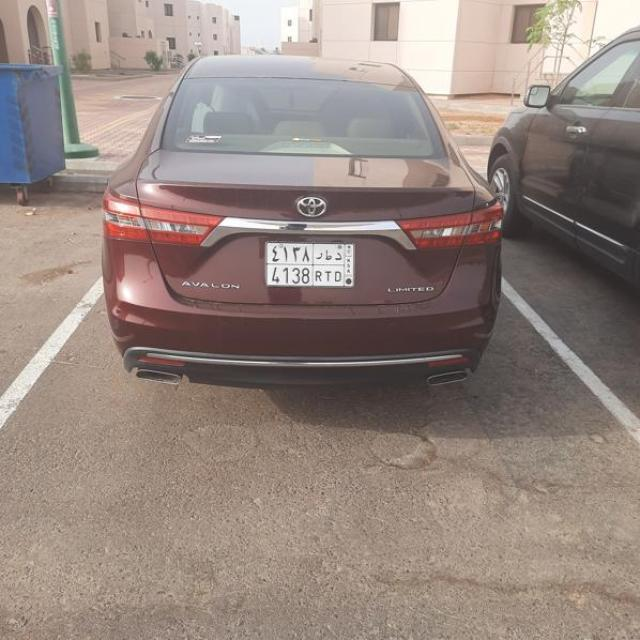license_plate: (266, 242, 356, 286)
